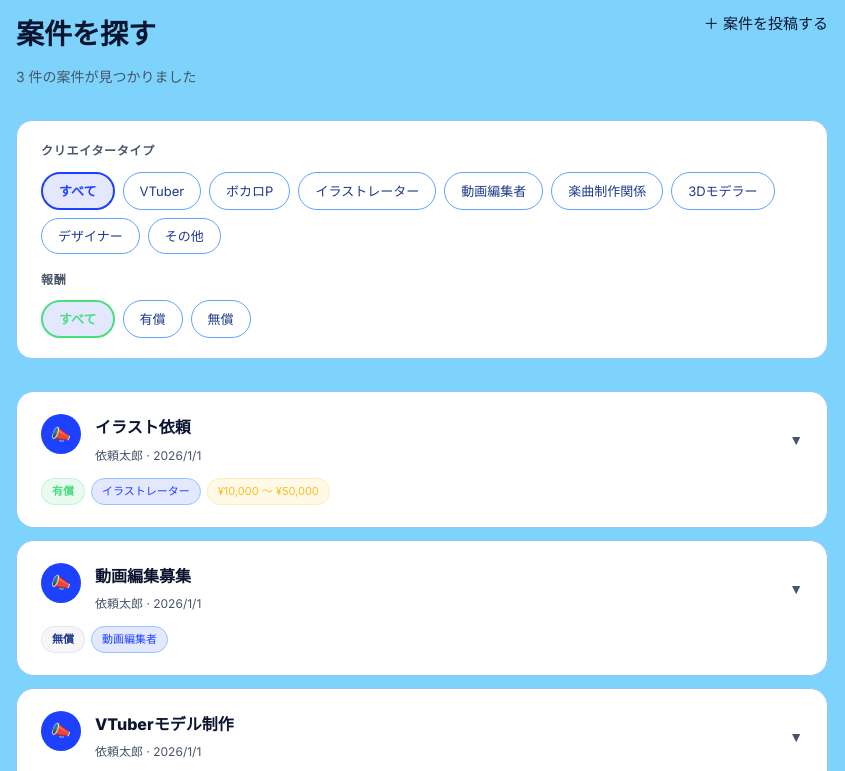
Test: JobListingsClient › [happy] 複数タイプを持つ案件は含まれるタイプでヒットする
Click the button "イラストレーター".
click(367, 191)  # box [298,172,436,210]
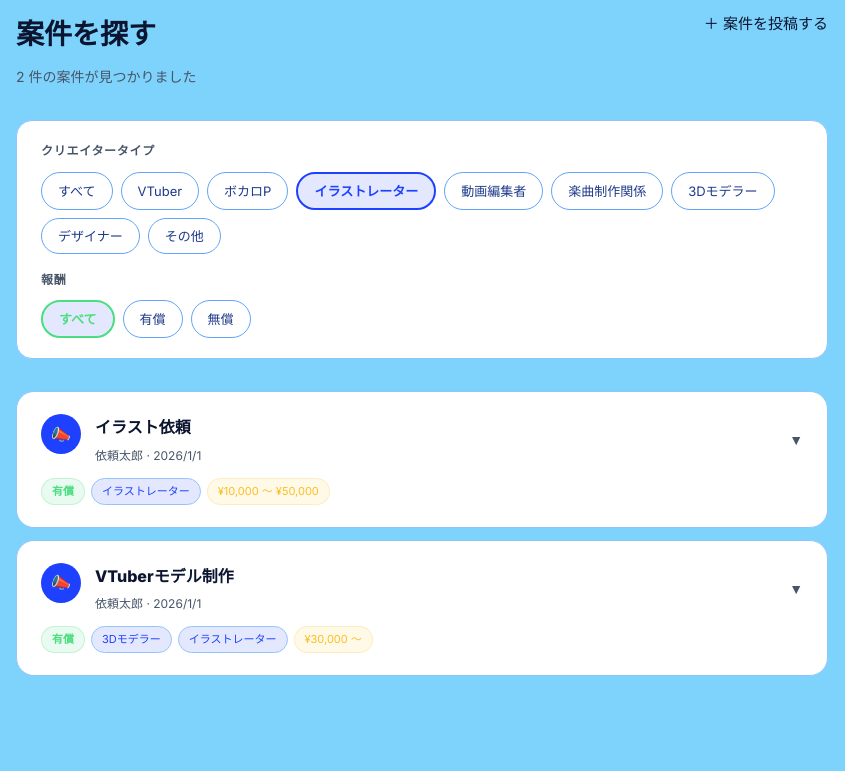
Expected: the text "イラスト依頼" is shown, [95,414,191,442]
Result: the text "動画編集募集" is gone
